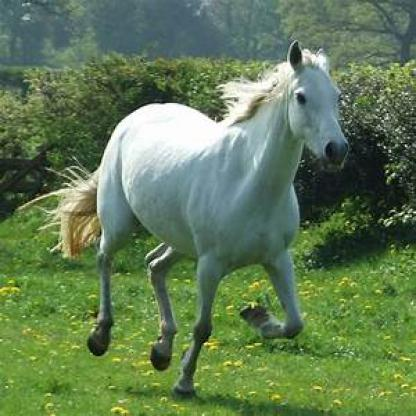horse: (61, 41, 351, 397)
